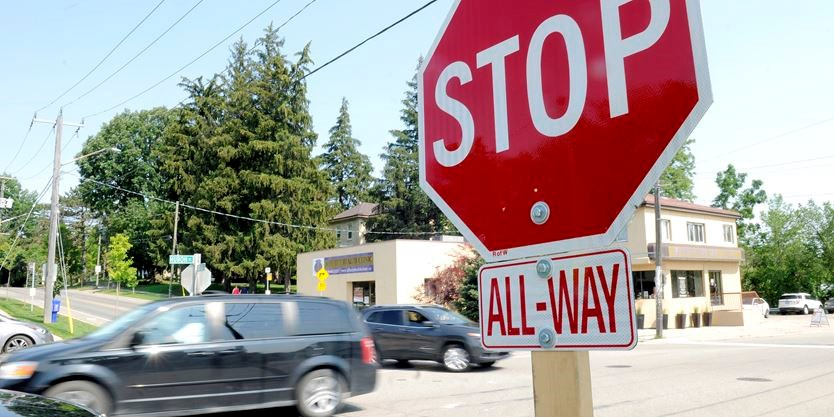stop: (419, 1, 713, 244), (419, 4, 711, 205), (429, 13, 713, 200), (419, 5, 581, 242)
